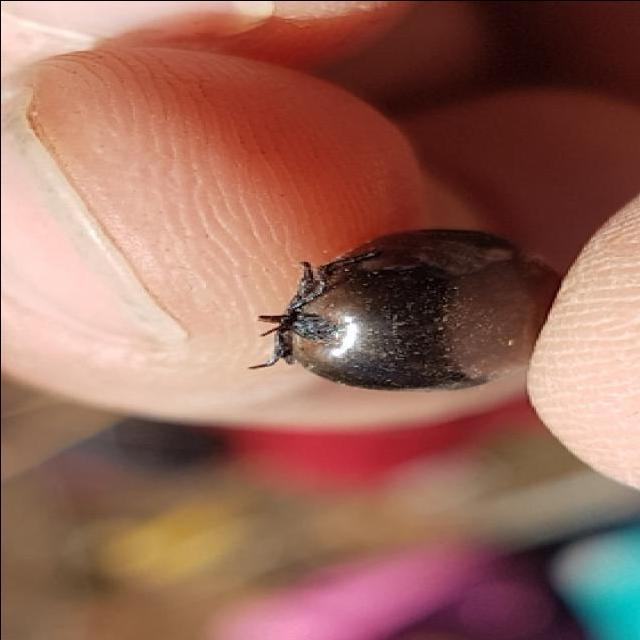Ixodes Ricinus-F-Fed: (257, 224, 558, 389)
